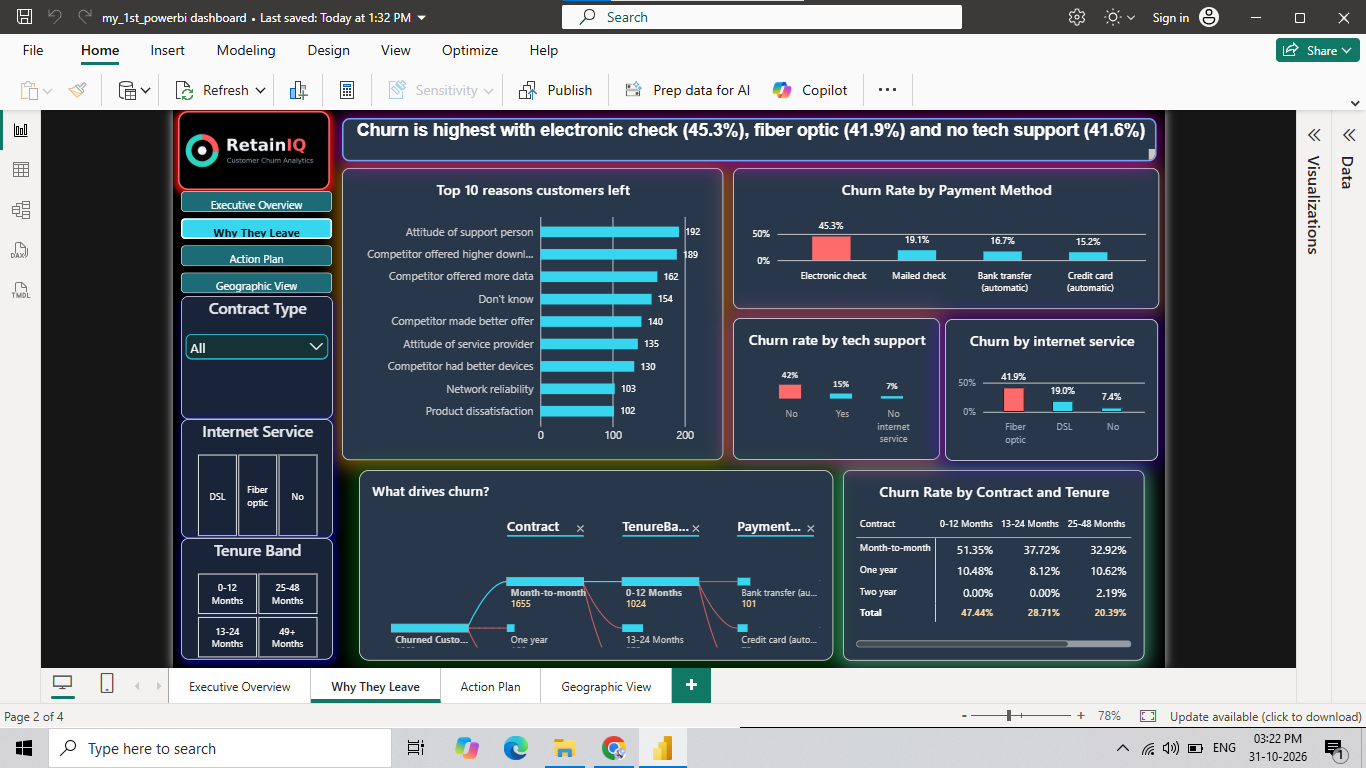

What the dashboard file says about the page in this screenshot:
{"tool":"powerbi","page":{"name":"Why They Leave","canvas":[1280,720],"ordinal":1},"visuals":[{"type":"clusteredBarChart","title":"Top 10 reasons customers left","fields":{"Category":["Customers.ChurnReason"],"Y":["_Measures.Churned Customers"]},"box":[218.3,75.1,491.8,377],"z":0},{"type":"clusteredColumnChart","title":"Churn Rate by Payment Method","fields":{"Category":["Customers.PaymentMethod"],"Y":["_Measures.Churn Rate %"]},"box":[722,75,550,182],"z":1000},{"type":"clusteredColumnChart","title":"Churn Rate by Tech Support","fields":{"Category":["Customers.TechSupport"],"Y":["_Measures.Churn Rate %"]},"box":[1322.4,484.7,267,183],"z":2000},{"type":"clusteredBarChart","title":"Churn Rate by Internet Service","fields":{"Category":["Customers.InternetService"],"Y":["_Measures.Churn Rate %"]},"box":[1322.4,267.9,267,183],"z":3000},{"type":"pivotTable","title":"Churn Rate by Contract and Tenure","fields":{"Columns":["Customers.TenureBand"],"Rows":["Customers.Contract"],"Values":["_Measures.Churn Rate %"]},"box":[864,464.3,389,246],"z":4000},{"type":"textbox","title":"Churn is highest with electronic check (45.3%), fiber optic (41.9%) and no tech support (41.6%)","box":[218.6,10,1051.4,55.7],"z":5000},{"type":"slicer","title":"Contract Type","fields":{"Values":["Customers.Contract"]},"box":[9.9,239.5,195.6,158.7],"z":6000},{"type":"slicer","title":"Internet Service","fields":{"Values":["Customers.InternetService"]},"box":[9.9,398.3,195.6,154.5],"z":7000},{"type":"slicer","title":"Tenure Band","fields":{"Values":["Customers.TenureBand"]},"box":[9.9,552.8,195.6,157.3],"z":8000},{"type":"image","box":[7,1,195.6,102],"z":9000},{"type":"pageNavigator","box":[9.9,104.9,195.6,134.6],"z":10000},{"type":"clusteredColumnChart","title":"Churn rate by tech support","fields":{"Category":["Customers.TechSupport"],"Y":["_Measures.Churn Rate %"]},"box":[722,269,267,183],"z":11000},{"type":"decompositionTreeVisual","title":"What drives churn?","fields":{"Analyze":["_Measures.Churned Customers"],"ExplainBy":["Customers.Contract","Customers.TenureBand","Customers.PaymentMethod","Customers.InternetService","Customers.TechSupport"]},"box":[240,464.3,612,246],"z":12000},{"type":"clusteredColumnChart","title":"Churn by internet service","fields":{"Category":["Customers.InternetService"],"Y":["_Measures.Churn Rate %"]},"box":[996.4,269.3,275,182.8],"z":13000}]}

Visuals, with their boxes on the page's 1280x720 design canvas (x1, y1, x2, y2). These are canvas units, not pixel positions in the 1366x768 screenshot, which may show the page scaled, cropped or inside an application window:
"Top 10 reasons customers left" clusteredBarChart: <bbox>218, 75, 710, 452</bbox>
"Churn Rate by Payment Method" clusteredColumnChart: <bbox>722, 75, 1272, 257</bbox>
"Churn Rate by Tech Support" clusteredColumnChart: <bbox>1322, 485, 1589, 668</bbox>
"Churn Rate by Internet Service" clusteredBarChart: <bbox>1322, 268, 1589, 451</bbox>
"Churn Rate by Contract and Tenure" pivotTable: <bbox>864, 464, 1253, 710</bbox>
"Churn is highest with electronic check (45.3%), fiber optic (41.9%) and no tech support (41.6%)" textbox: <bbox>219, 10, 1270, 66</bbox>
"Contract Type" slicer: <bbox>10, 240, 206, 398</bbox>
"Internet Service" slicer: <bbox>10, 398, 206, 553</bbox>
"Tenure Band" slicer: <bbox>10, 553, 206, 710</bbox>
image: <bbox>7, 1, 203, 103</bbox>
pageNavigator: <bbox>10, 105, 206, 240</bbox>
"Churn rate by tech support" clusteredColumnChart: <bbox>722, 269, 989, 452</bbox>
"What drives churn?" decompositionTreeVisual: <bbox>240, 464, 852, 710</bbox>
"Churn by internet service" clusteredColumnChart: <bbox>996, 269, 1271, 452</bbox>
